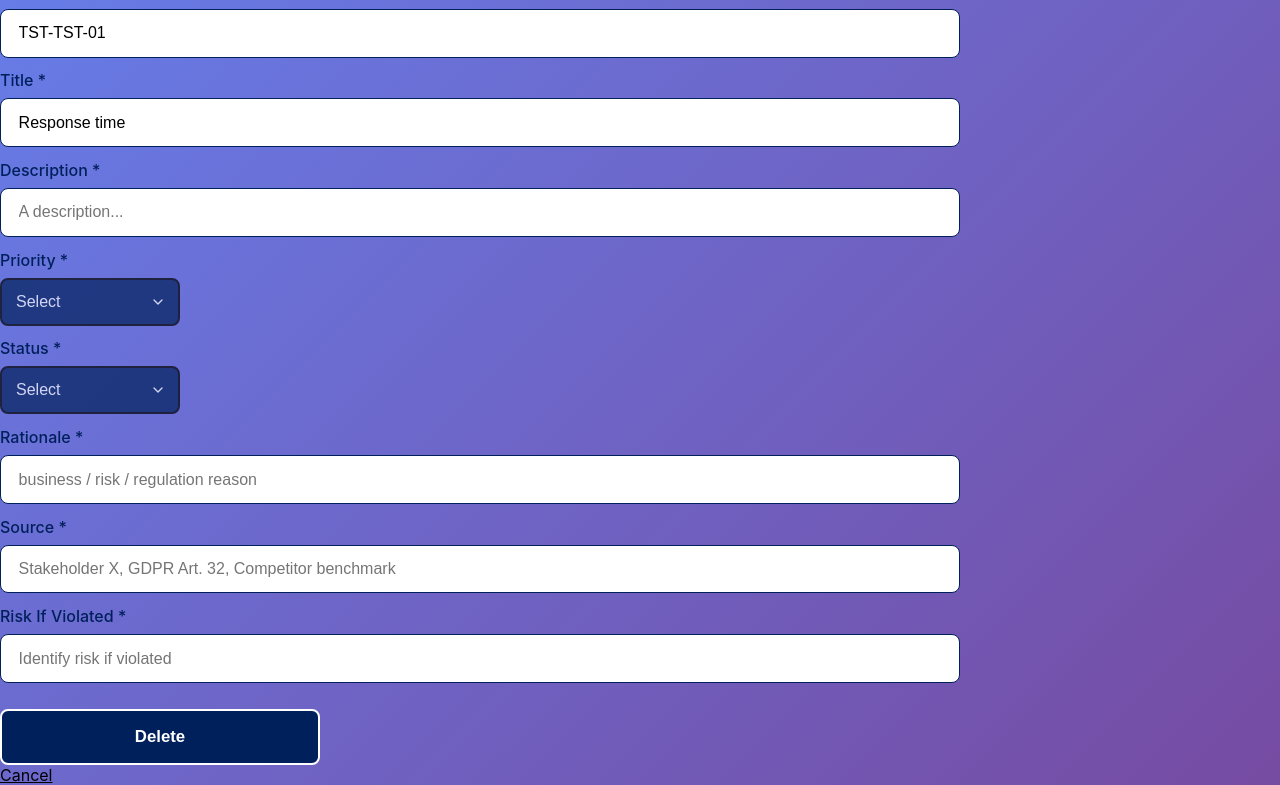
Test: RequirementForm › asks for confirmation before deleting
(page scrolled)
Click the button "Delete".
click(160, 737)  # box x1=0 y1=709 x2=320 y2=765
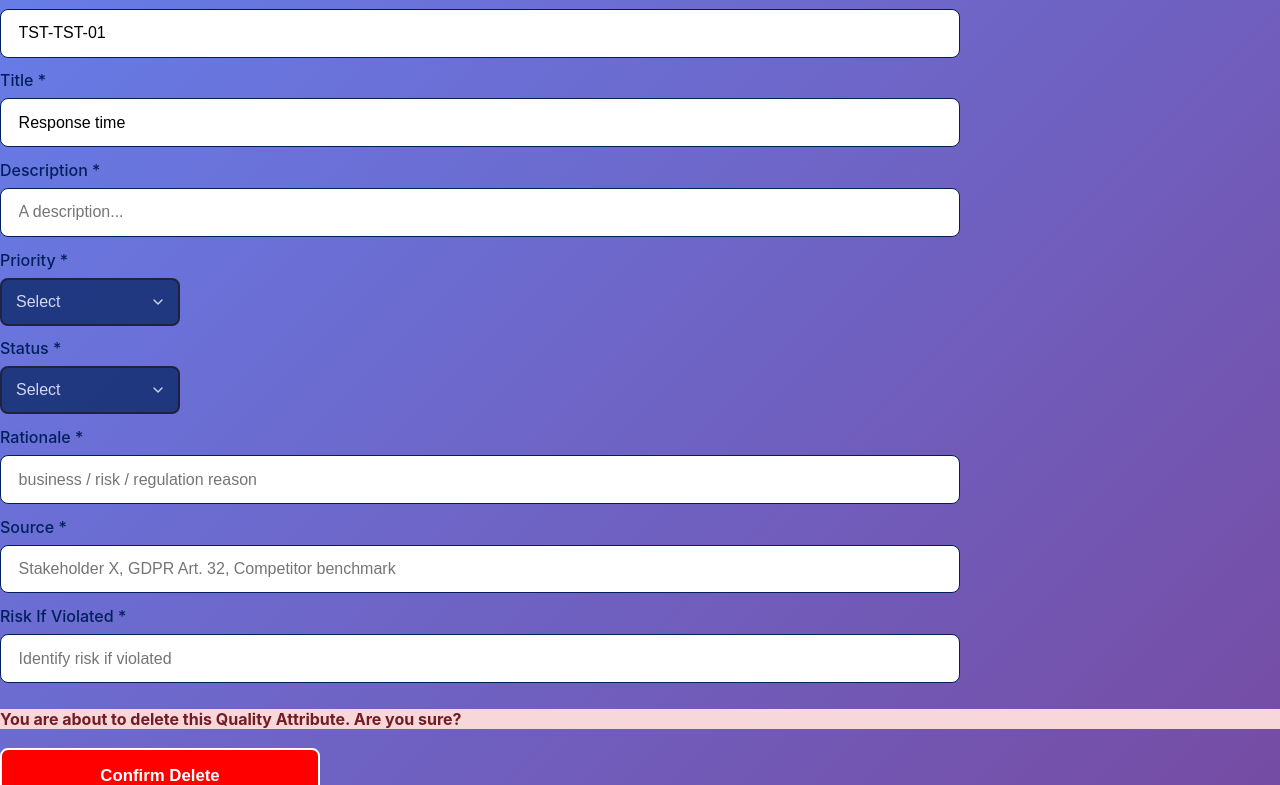
Expected: the text "Are you sure" is shown, x1=0 y1=709 x2=462 y2=729
